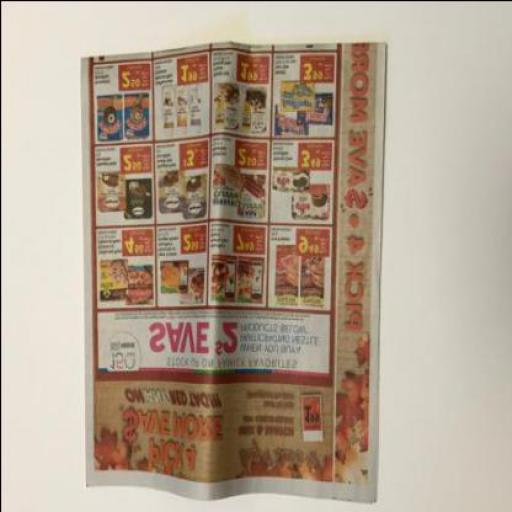paper: (77, 42, 385, 504)
